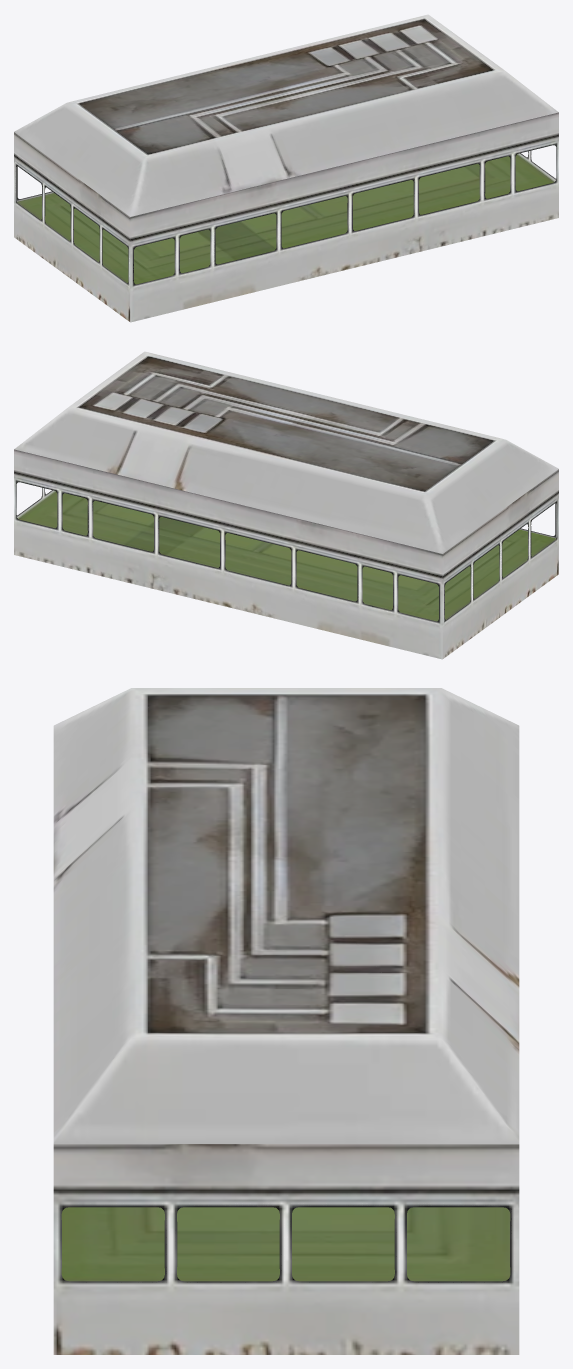
The model's file is walkway_hdtex.glb.
3 views of the same model, one above another, from view 1: azimuth 30°, elevation 25°; view 2: azimuth 150°, elevation 25°; view 3: azimuth 270°, elevation 25° (orthographic). The views are drawn at different scales.
Visible parts, largest first — view 1: Terminal; view 2: Terminal; view 3: Terminal.
Part boxes in pixels (x1,y1,x2,y2): Terminal: [14, 14, 558, 322]; Terminal: [14, 351, 558, 659]; Terminal: [53, 688, 519, 1354].
Bounding box in the file's own units: 25.5 × 8 × 12.
1 material, 1 textured.
